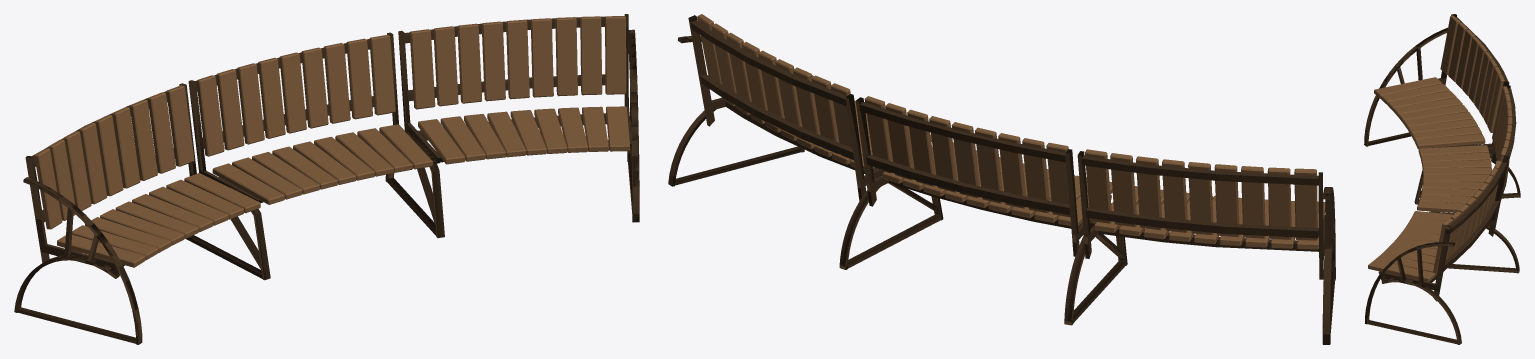
The picture shows the model from 3 angles, left to right: view 1: azimuth 30°, elevation 25°; view 2: azimuth 150°, elevation 25°; view 3: azimuth 270°, elevation 25°; orthographic projection. The views are drawn at different scales.
Parts seen in each view (by area): view 1: B_23_2; view 2: B_23_2; view 3: B_23_2.
Part boxes in pixels (<box>): B_23_2: <box>14,14,639,344</box>; B_23_2: <box>668,14,1335,344</box>; B_23_2: <box>1364,14,1520,344</box>.
Bounding box in the file's own units: 364 × 87.99 × 109.
